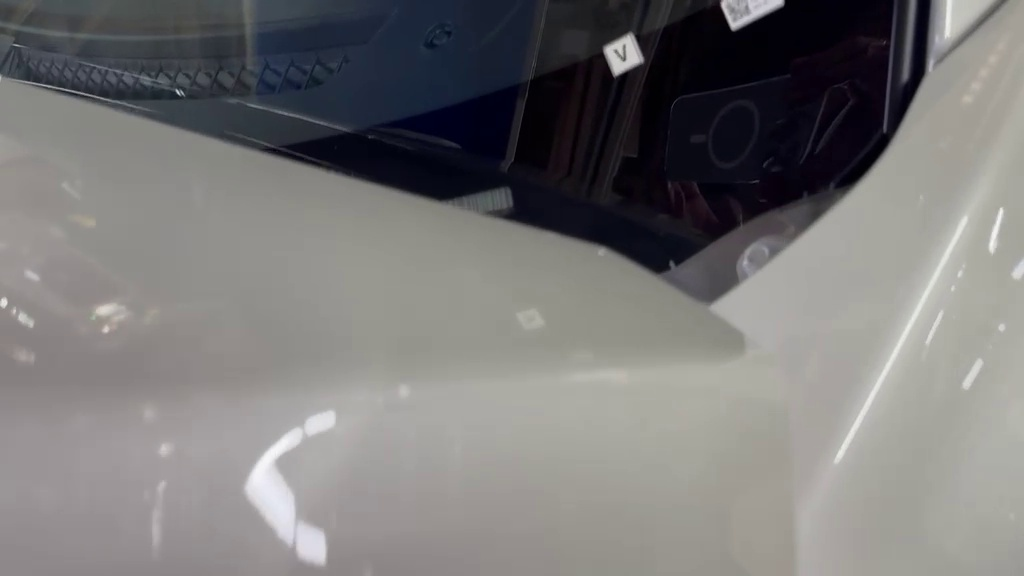hinge: (421, 158, 537, 250)
